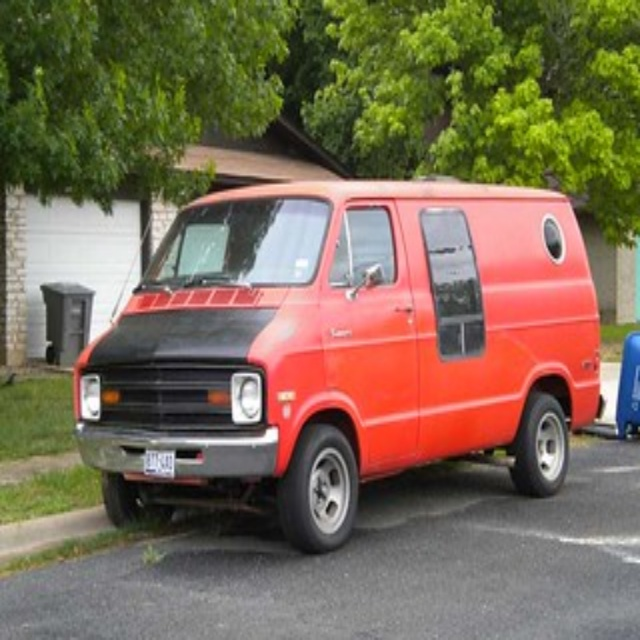Van: (70, 176, 606, 555)
